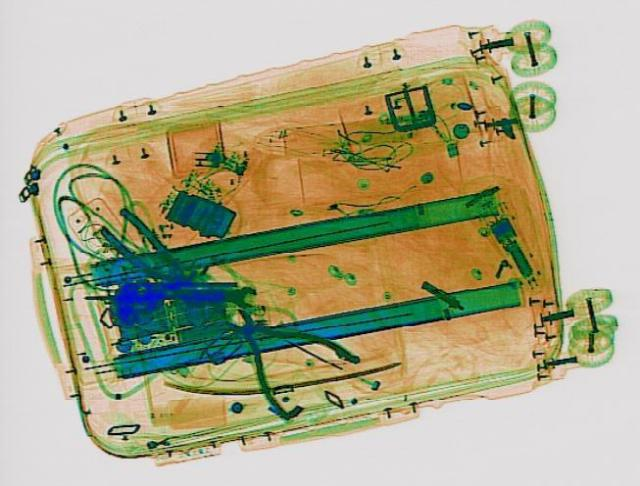Pliers: (182, 285, 374, 422), (88, 205, 225, 315)
